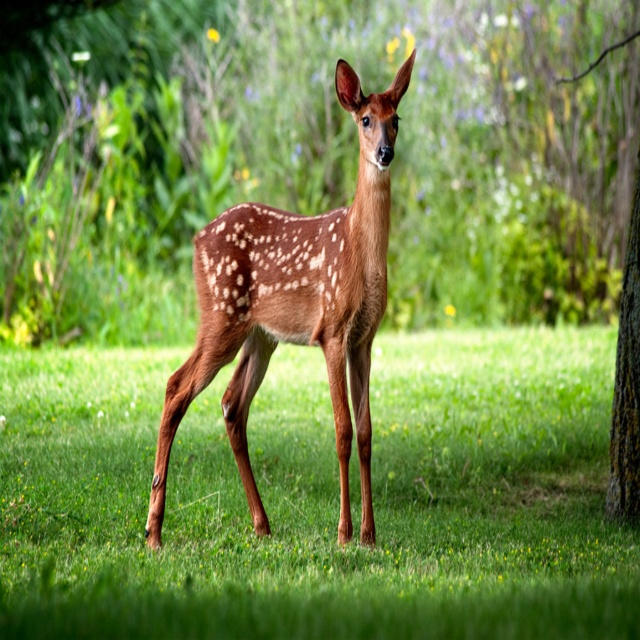Deer: (144, 50, 415, 550)
